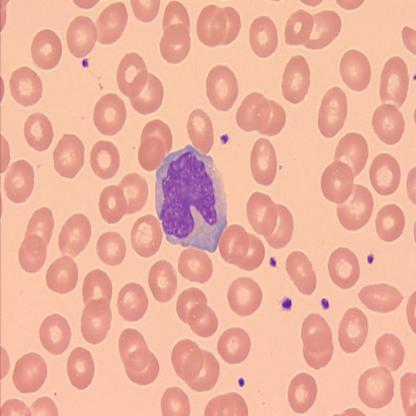Atypical lymphocyte: (155, 146, 227, 253)
